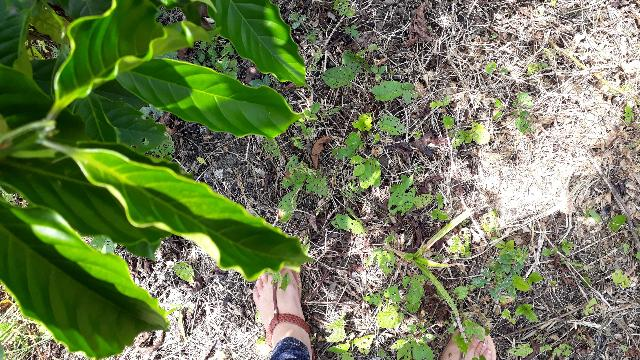healthy: (67, 146, 320, 282)
